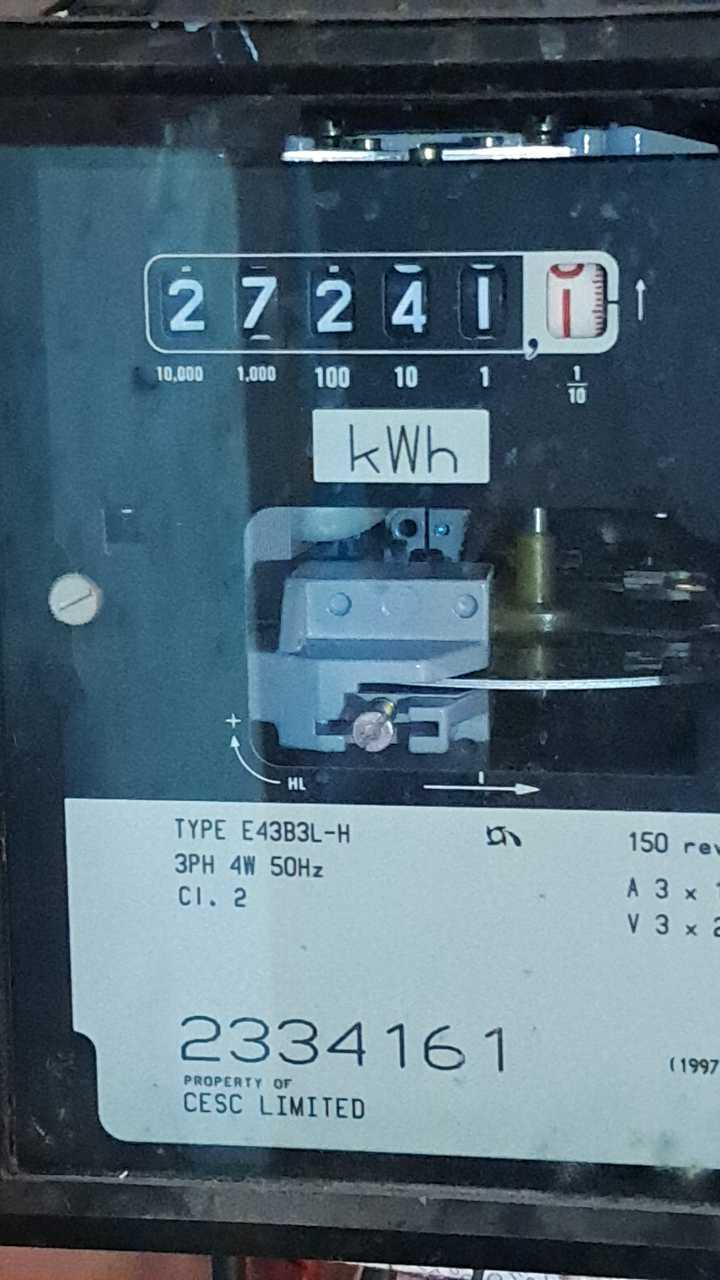meter_readings: (148, 265, 600, 346)
serial_number: (183, 1012, 531, 1072)
